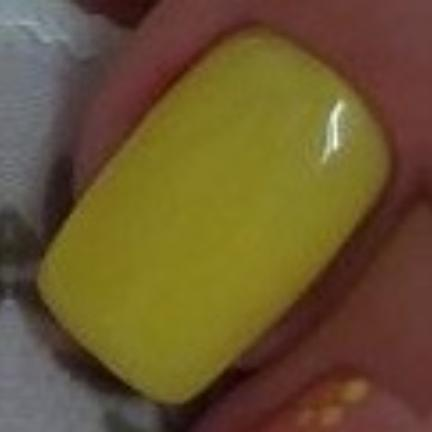Nail: (37, 22, 394, 403)
